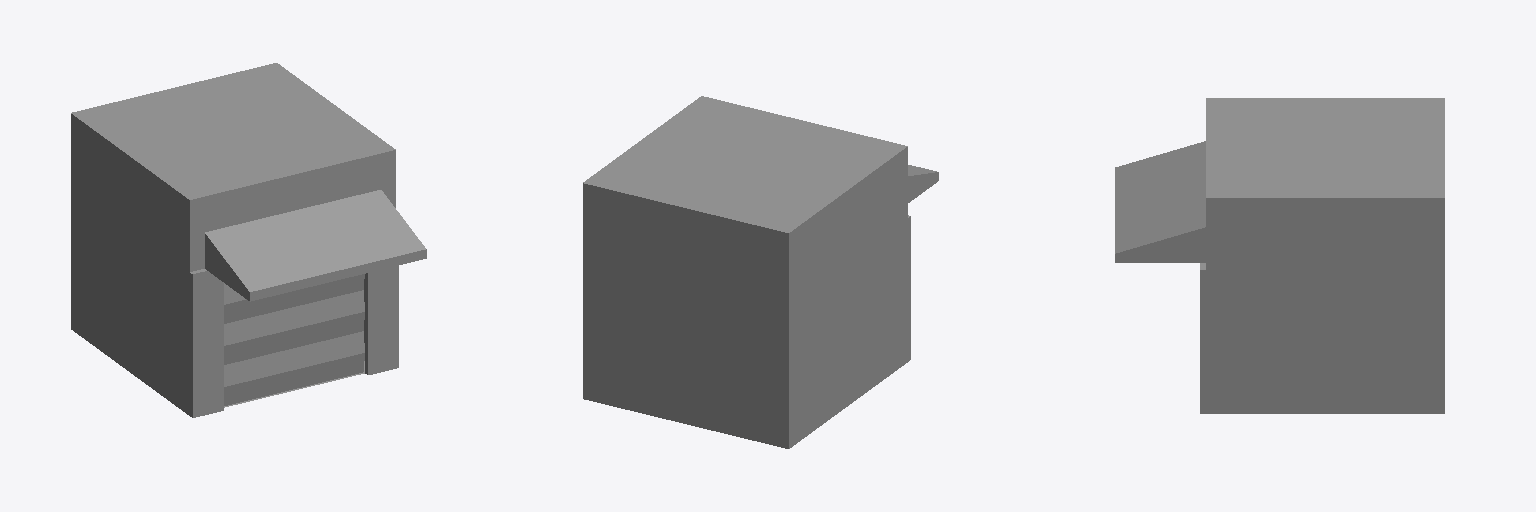
3 views of the same model, side by side, from view 1: azimuth 30°, elevation 25°; view 2: azimuth 150°, elevation 25°; view 3: azimuth 270°, elevation 25° (orthographic).
Parts seen in each view (by area): view 1: Cube, Primary_Cube.001, Metal_Gate_Cube.003, Secondary_Cube.002; view 2: Cube, Primary_Cube.001; view 3: Cube, Primary_Cube.001, Secondary_Cube.002.
Part boxes in pixels (left/top/right/bottom): Cube: left=71, top=63, right=395, bottom=415; Primary_Cube.001: left=190, top=150, right=426, bottom=301; Metal_Gate_Cube.003: left=224, top=274, right=364, bottom=405; Secondary_Cube.002: left=190, top=266, right=398, bottom=417; Cube: left=583, top=96, right=907, bottom=448; Primary_Cube.001: left=908, top=165, right=938, bottom=202; Cube: left=1206, top=98, right=1444, bottom=413; Primary_Cube.001: left=1115, top=141, right=1205, bottom=262; Secondary_Cube.002: left=1200, top=263, right=1205, bottom=413.
Bounding box in the file's own units: 2 × 2 × 2.76.